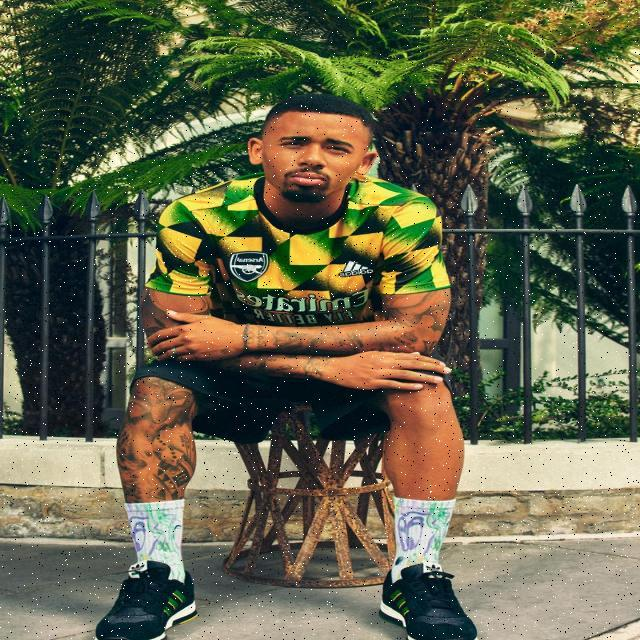Adidas: (337, 260, 375, 277)
Emirates: (234, 286, 371, 310)
